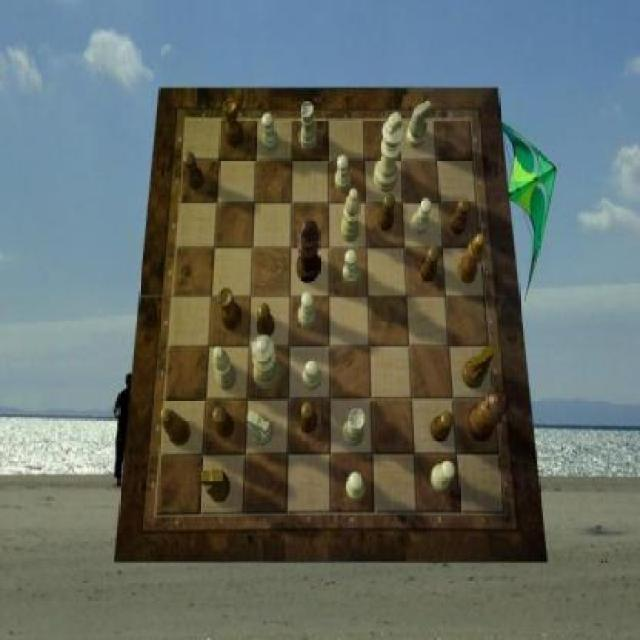bishop: (457, 233, 485, 284), (160, 409, 191, 447)
black-bishop: (297, 218, 321, 282)
black-king: (462, 345, 494, 387), (200, 469, 230, 503)
black-knight: (183, 151, 204, 189), (448, 198, 470, 234), (418, 246, 439, 282), (212, 408, 235, 440), (431, 411, 454, 442), (377, 192, 395, 230), (298, 401, 318, 434), (257, 303, 275, 338)
black-pawn: (466, 388, 511, 442)
black-queen: (221, 99, 244, 148), (218, 288, 242, 330)
black-rook: (340, 189, 360, 242), (212, 348, 236, 390)
white-bishop: (374, 112, 404, 192)
white-king: (406, 100, 431, 149), (248, 410, 274, 446)
white-knight: (431, 460, 455, 492), (411, 198, 432, 234), (262, 114, 279, 154), (299, 291, 316, 328), (343, 250, 360, 286), (336, 155, 352, 193), (303, 360, 321, 391), (348, 472, 365, 500)
white-pawn: (252, 335, 282, 390)
white-queen: (343, 409, 366, 447), (299, 101, 316, 150)
